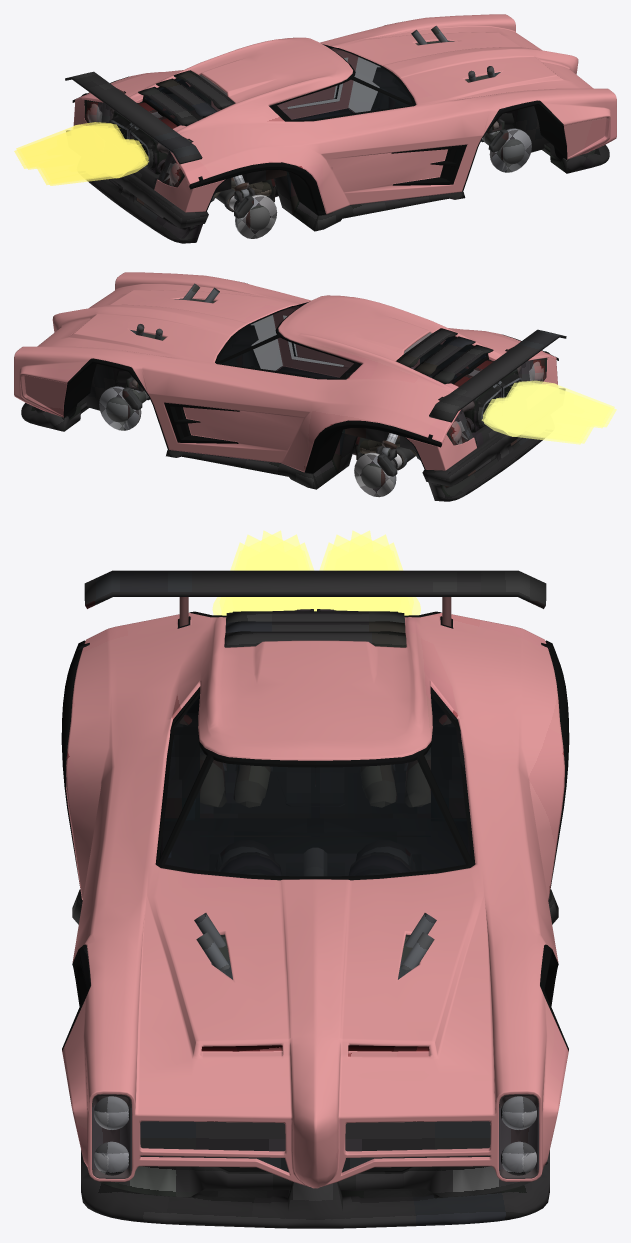
Rendered from Dominus_MuscleCar_DetailedMaterials.glb.
3 renders of one model, top to bottom at view 1: azimuth 30°, elevation 25°; view 2: azimuth 150°, elevation 25°; view 3: azimuth 270°, elevation 25°, orthographic. The views are drawn at different scales.
Visible parts, largest first — view 1: Dominus_MuscleCar_DetailedMaterials; view 2: Dominus_MuscleCar_DetailedMaterials; view 3: Dominus_MuscleCar_DetailedMaterials.
Part boxes in pixels (x1=…): Dominus_MuscleCar_DetailedMaterials: x1=14, y1=14, x2=616, y2=243; Dominus_MuscleCar_DetailedMaterials: x1=14, y1=272, x2=616, y2=501; Dominus_MuscleCar_DetailedMaterials: x1=61, y1=530, x2=569, y2=1228.
Bounding box in the file's own units: 1.8 × 0.3947 × 0.7251.
Materials: 6 (5 with a texture image).
